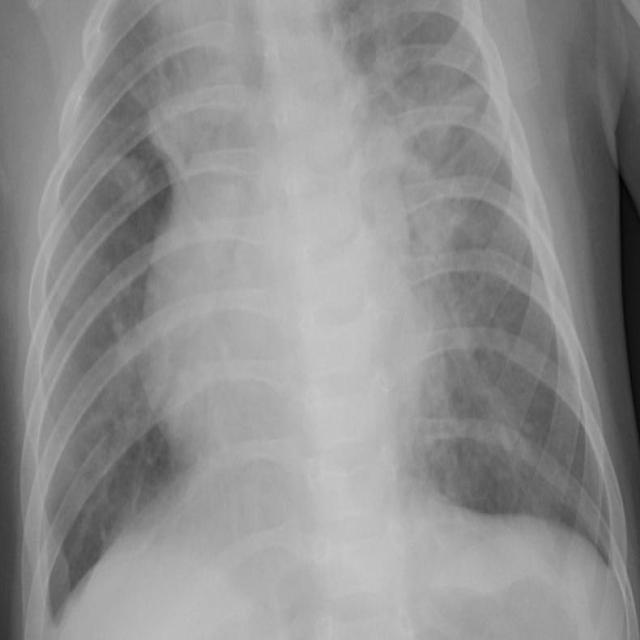low-pneumonia: (373, 73, 476, 308), (416, 323, 538, 458), (102, 290, 153, 460)
